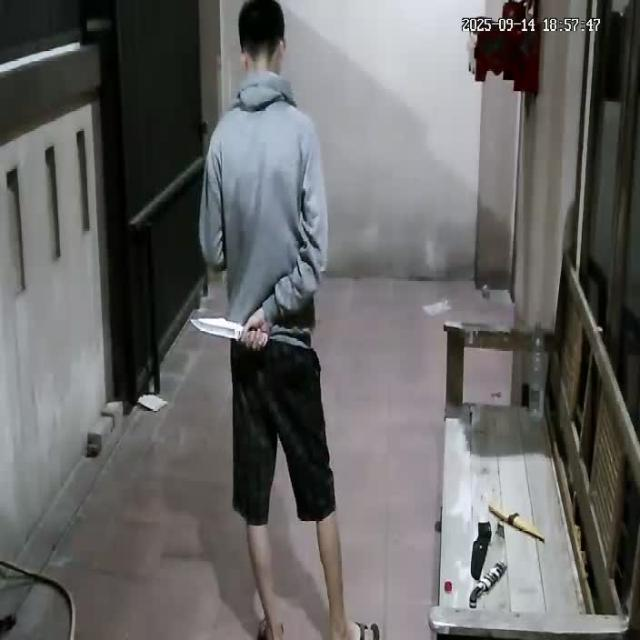senjata_tajam: (188, 314, 246, 342)
